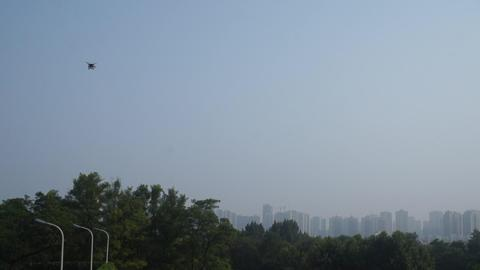UAV: (85, 62, 98, 70)
